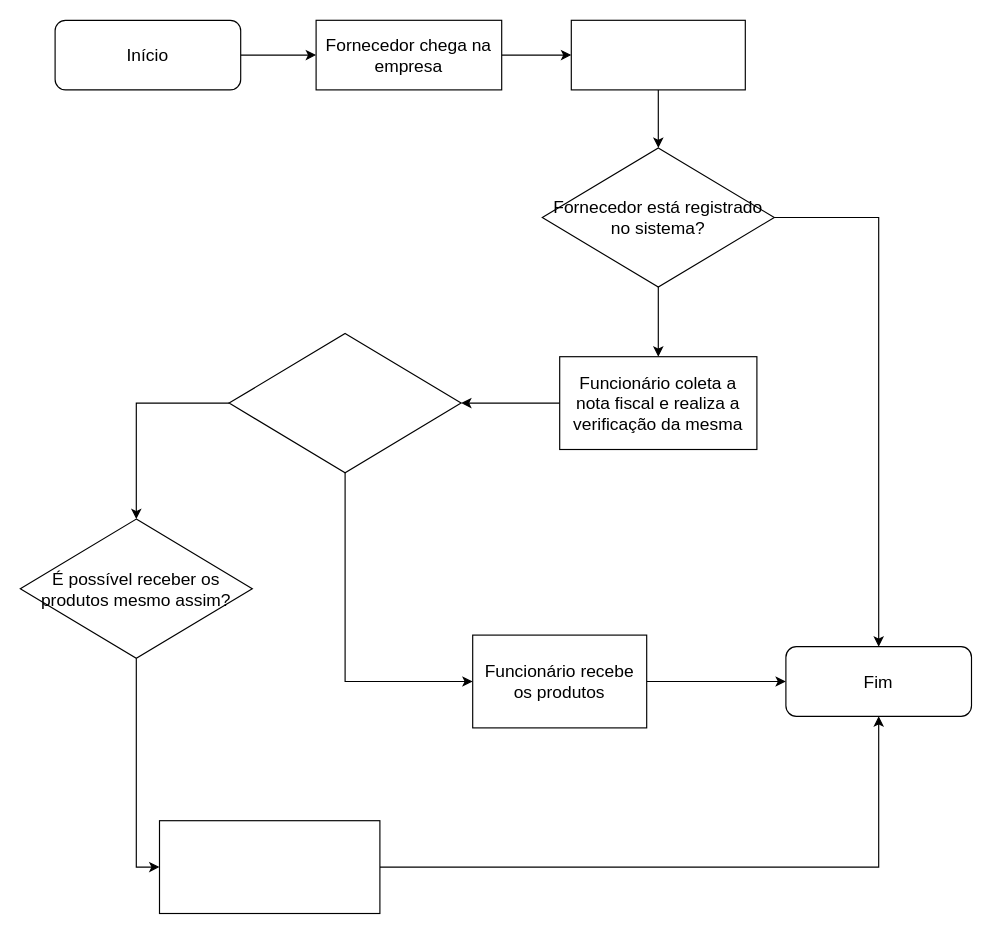
Image size: 992x934. Some labels were removed from this diagram. The centre of each missing label's shape, as x and y in pixels:
"Funcionário da portaria realiza a identificação" goes at pixel 657 54.
"Funcionário não recebe os produtos e devolve a nota fiscal para o fornecedor" goes at pixel 269 866.
"Há alguma divergência na nota fiscal?" goes at pixel 344 402.
